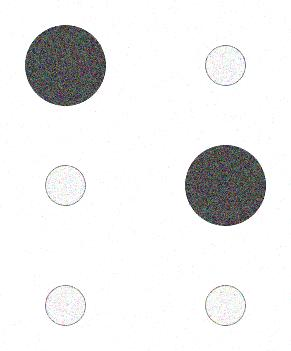E: (21, 19, 271, 337)
